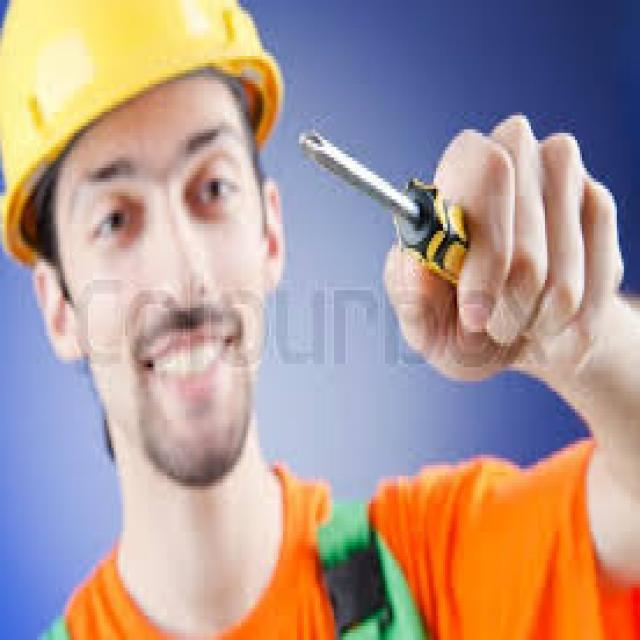screwdriver: (301, 131, 484, 289)
